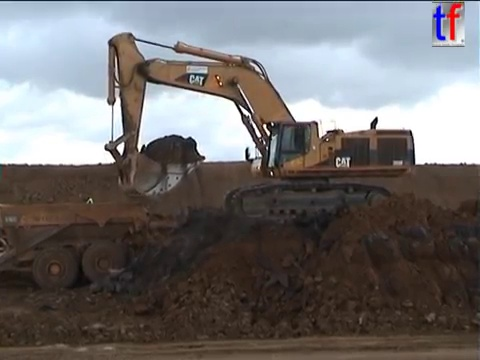excavator: (100, 29, 418, 226)
truck: (1, 200, 151, 291), (82, 192, 95, 219)
